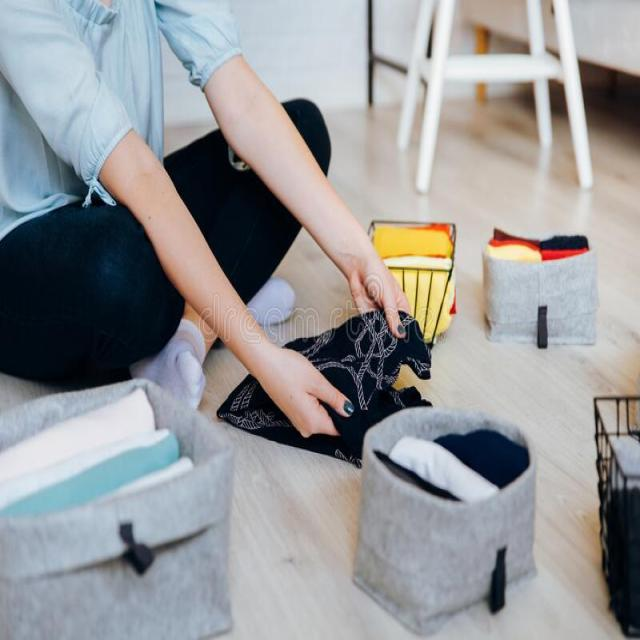clothes: (249, 312, 408, 443)
